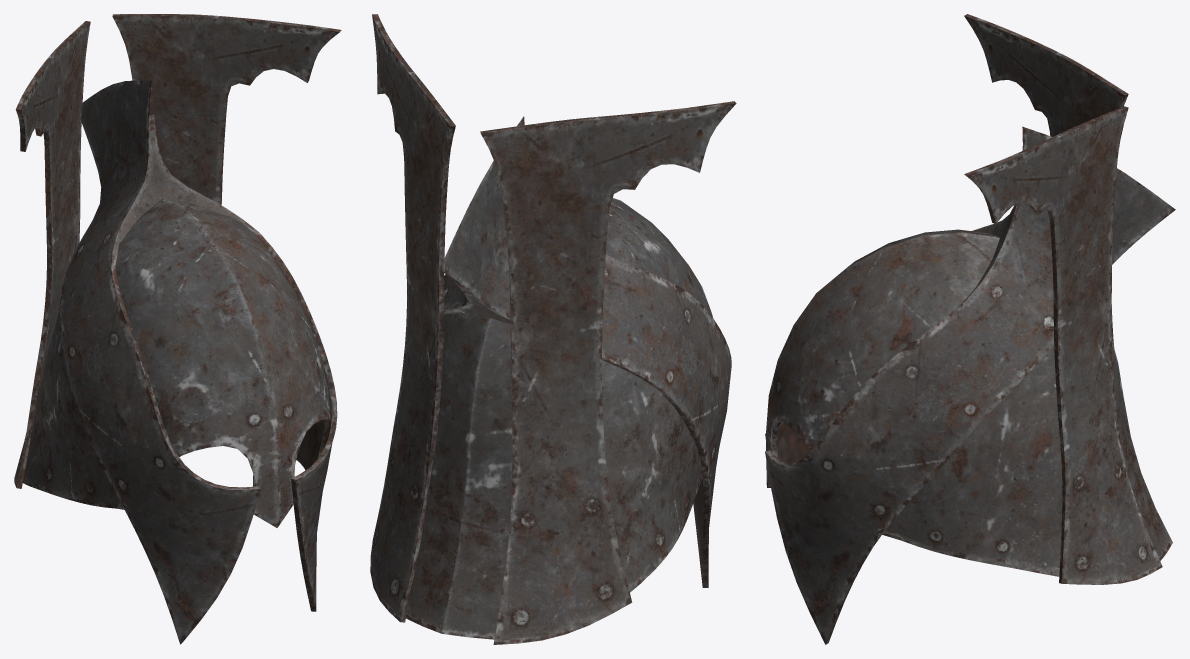
The model's file is sk_gb_uruk_helmet_elite_c.fbx.
The picture shows the model from 3 angles, left to right: view 1: azimuth 30°, elevation 25°; view 2: azimuth 150°, elevation 25°; view 3: azimuth 270°, elevation 25°; orthographic projection. The views are drawn at different scales.
Parts seen in each view (by area): view 1: sk_gb_uruk_helmet_elite_c; view 2: sk_gb_uruk_helmet_elite_c; view 3: sk_gb_uruk_helmet_elite_c.
Boxes of the visible parts, left/top/right/bottom form: sk_gb_uruk_helmet_elite_c: left=14, top=14, right=341, bottom=644; sk_gb_uruk_helmet_elite_c: left=370, top=14, right=736, bottom=644; sk_gb_uruk_helmet_elite_c: left=765, top=14, right=1175, bottom=644.
Size of the model in its own units: 0.287 by 0.3079 by 0.4269.
Materials: 1 (1 with a texture image).
